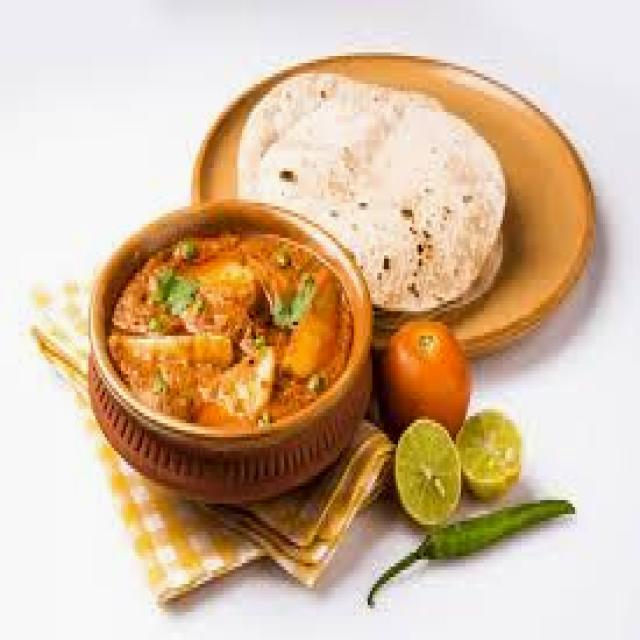chapathi: (247, 96, 518, 236)
tomato: (384, 328, 469, 420)
